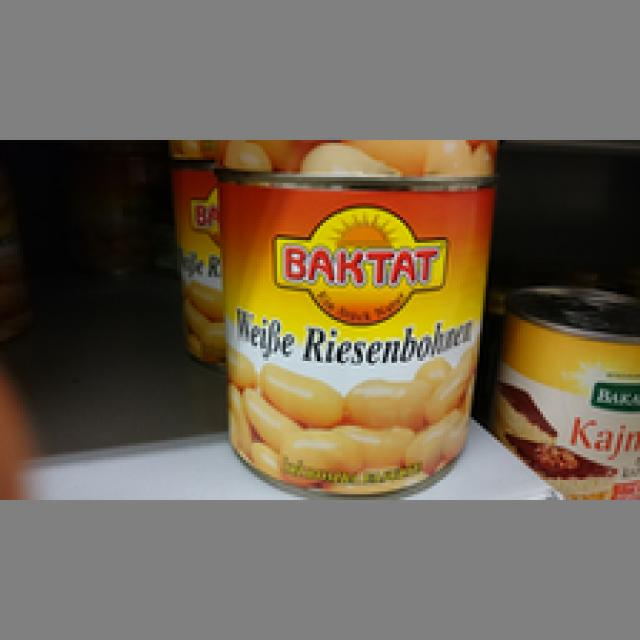groceries: (212, 166, 494, 491)
